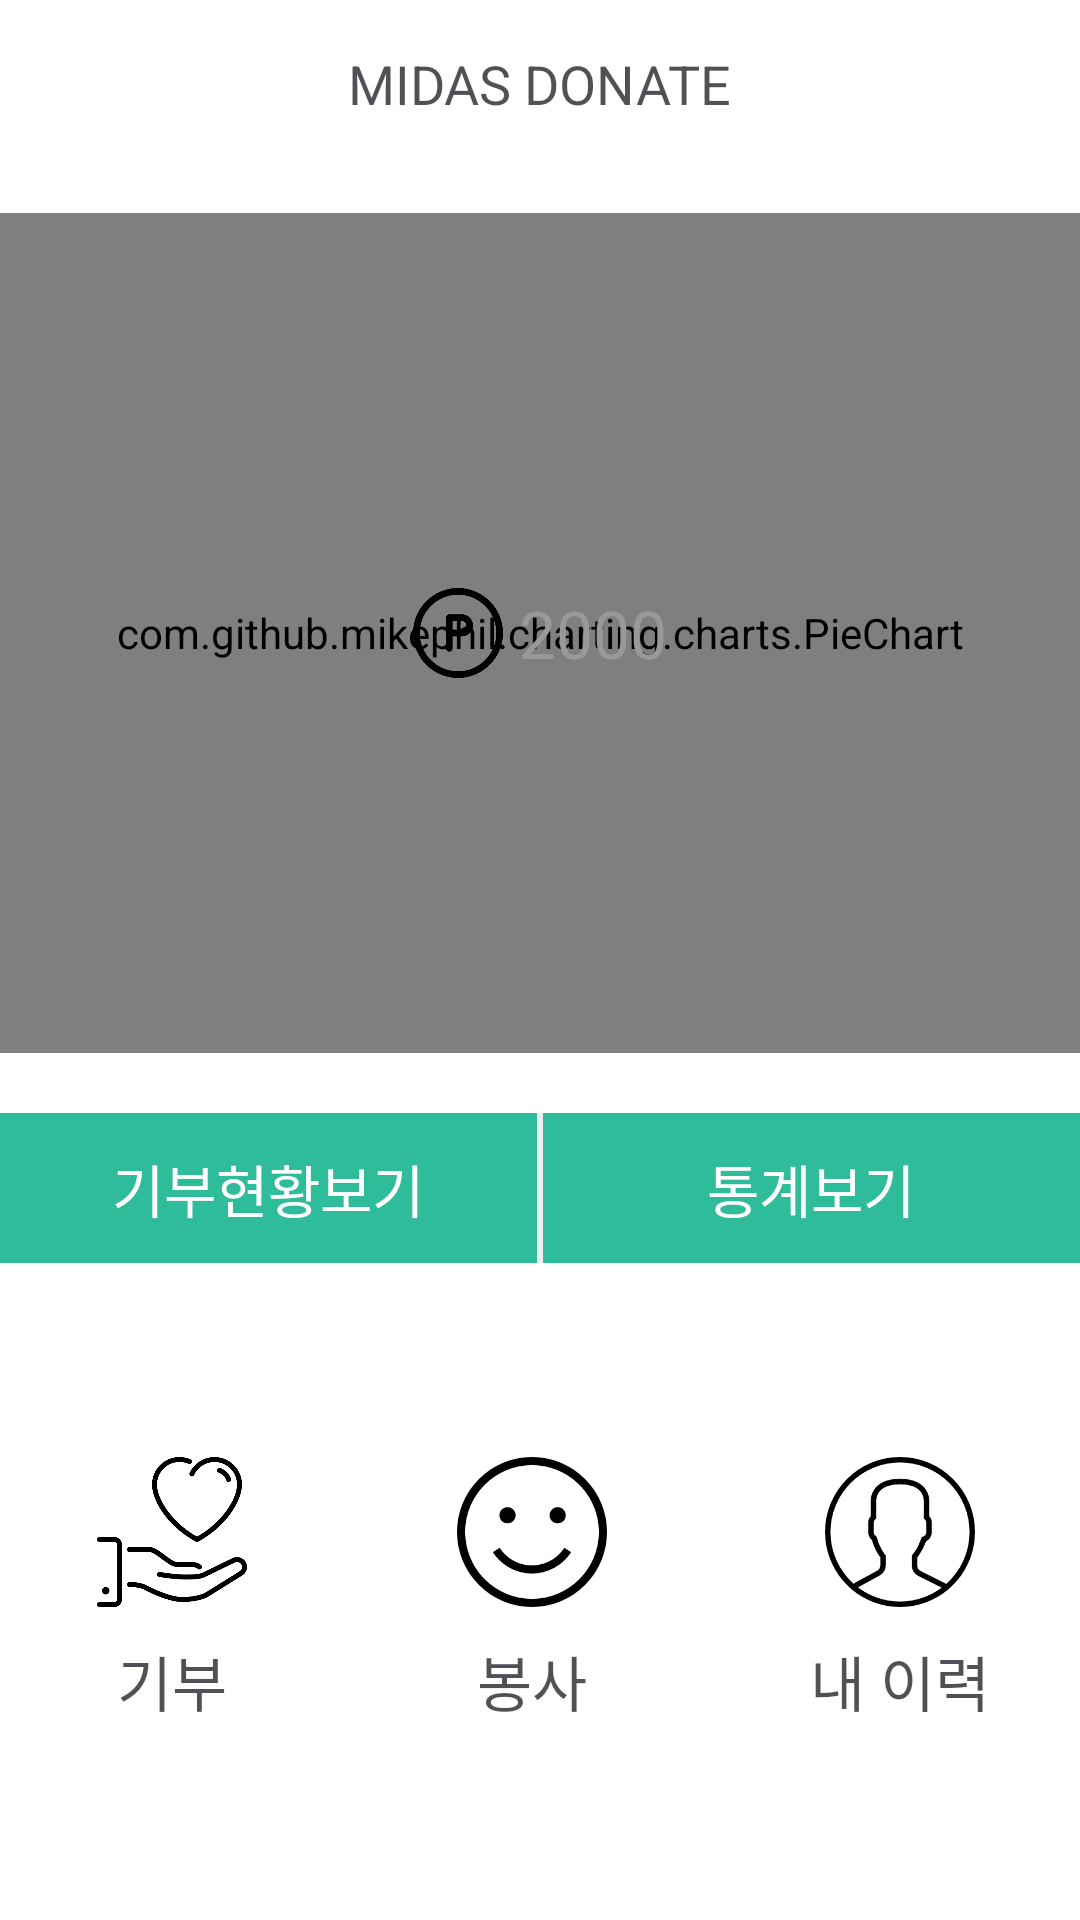

Where to tap for icons on this 1080 × 1920 app screen, as point (x, y):
donation: point (172, 1532)
happiness: point (532, 1532)
point: point (458, 633)
user: point (900, 1532)
